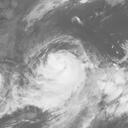cyclone: (18, 34, 91, 106)
